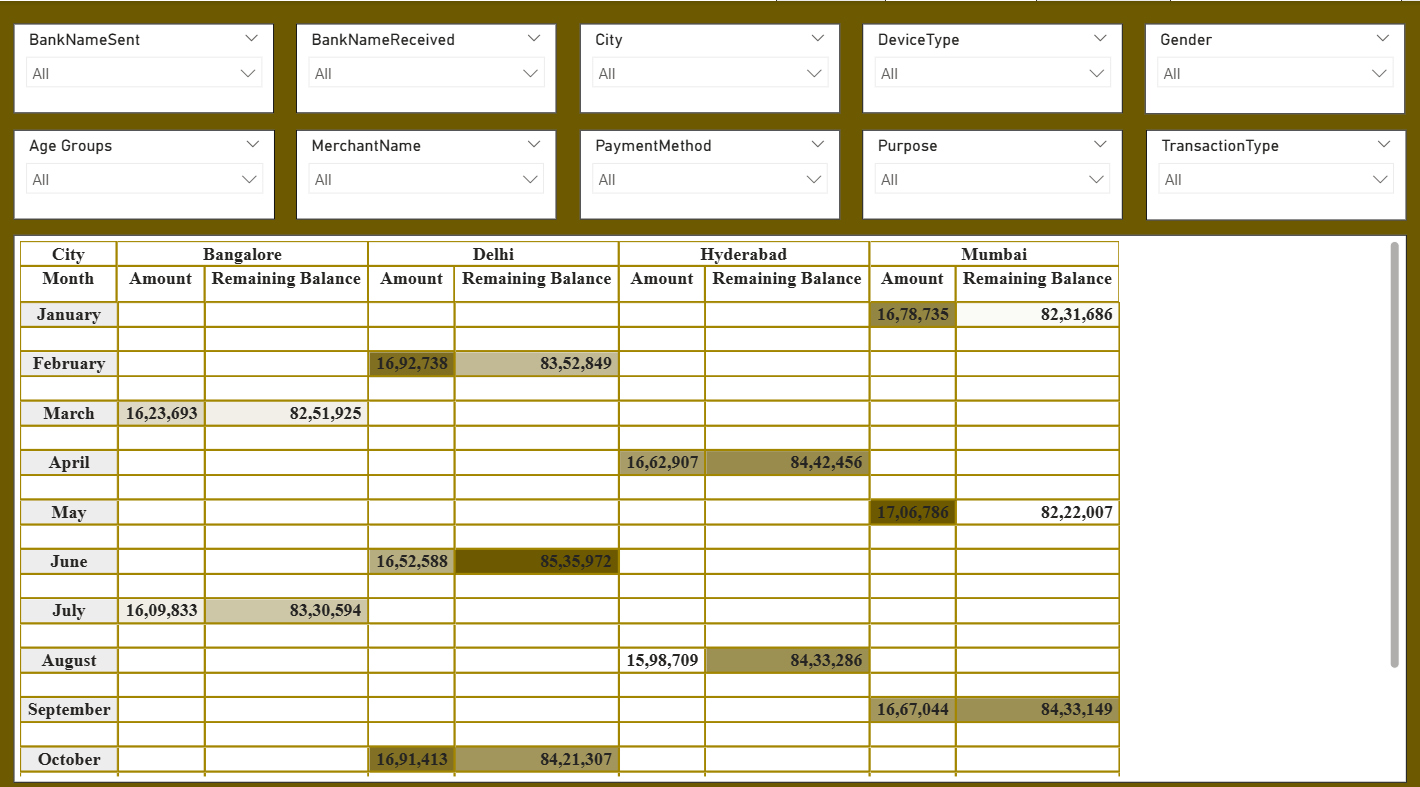

The page's visual inventory and layout, read from the dashboard file:
{"tool":"powerbi","page":{"name":"Page 2","canvas":[1280,720],"ordinal":1},"visuals":[{"type":"slicer","fields":{"Values":["UPI Transaction.BankNameSent"]},"box":[20,20,232,80],"z":0},{"type":"slicer","fields":{"Values":["UPI Transaction.BankNameReceived"]},"box":[272,20,232,80],"z":1000},{"type":"slicer","fields":{"Values":["UPI Transaction.City"]},"box":[524,20,232,80],"z":2000},{"type":"slicer","fields":{"Values":["UPI Transaction.DeviceType"]},"box":[776,20,232,80],"z":3000},{"type":"slicer","fields":{"Values":["UPI Transaction.Gender"]},"box":[1028,20,232,81],"z":4000},{"type":"slicer","fields":{"Values":["UPI Transaction.Age Groups"]},"box":[19.6,114.1,233.1,79.8],"z":5000},{"type":"slicer","fields":{"Values":["UPI Transaction.MerchantName"]},"box":[271.2,114.1,231.9,79.8],"z":6000},{"type":"slicer","fields":{"Values":["UPI Transaction.PaymentMethod"]},"box":[523.9,114.1,231.9,79.8],"z":7000},{"type":"slicer","fields":{"Values":["UPI Transaction.Purpose"]},"box":[775.5,114.1,231.9,79.8],"z":8000},{"type":"slicer","fields":{"Values":["UPI Transaction.TransactionType"]},"box":[1028.2,114.1,231.9,81],"z":9000},{"type":"pivotTable","fields":{"Values":["Sum(UPI Transaction.Amount)","Sum(UPI Transaction.RemainingBalance)"],"Rows":["UPI Transaction.TransactionDate.Variation.Date Hierarchy.Month"],"Columns":["UPI Transaction.City","UPI Transaction.Currency"]},"box":[19.6,208.6,1240.5,488.3],"z":9001}]}

Visuals, with their boxes in screenshot pixels (x1, y1, x2, y2), scaled from the page's 1280x720 canvas onto the 1420x787 screenshot:
slicer - UPI Transaction.BankNameSent: bbox=[22, 22, 280, 109]
slicer - UPI Transaction.BankNameReceived: bbox=[302, 22, 559, 109]
slicer - UPI Transaction.City: bbox=[581, 22, 839, 109]
slicer - UPI Transaction.DeviceType: bbox=[861, 22, 1118, 109]
slicer - UPI Transaction.Gender: bbox=[1140, 22, 1398, 110]
slicer - UPI Transaction.Age Groups: bbox=[22, 125, 280, 212]
slicer - UPI Transaction.MerchantName: bbox=[301, 125, 558, 212]
slicer - UPI Transaction.PaymentMethod: bbox=[581, 125, 838, 212]
slicer - UPI Transaction.Purpose: bbox=[860, 125, 1118, 212]
slicer - UPI Transaction.TransactionType: bbox=[1141, 125, 1398, 213]
pivotTable - Sum(UPI Transaction.Amount) x Sum(UPI Transaction.RemainingBalance): bbox=[22, 228, 1398, 762]
